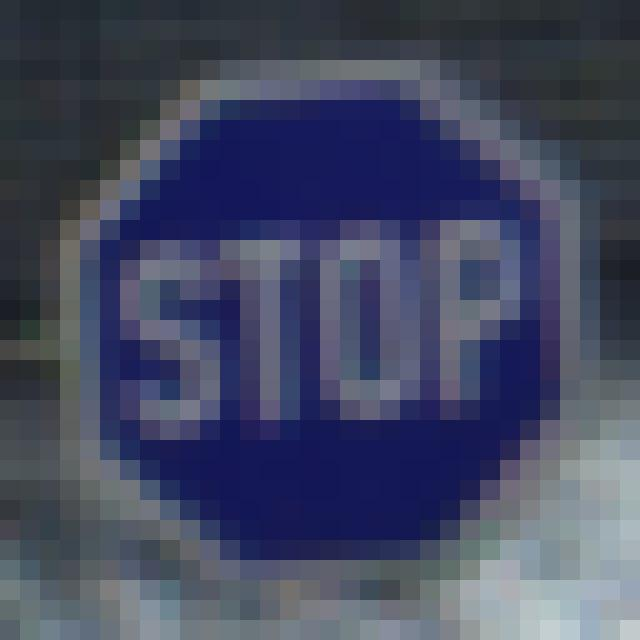STOP: (80, 92, 571, 567)
